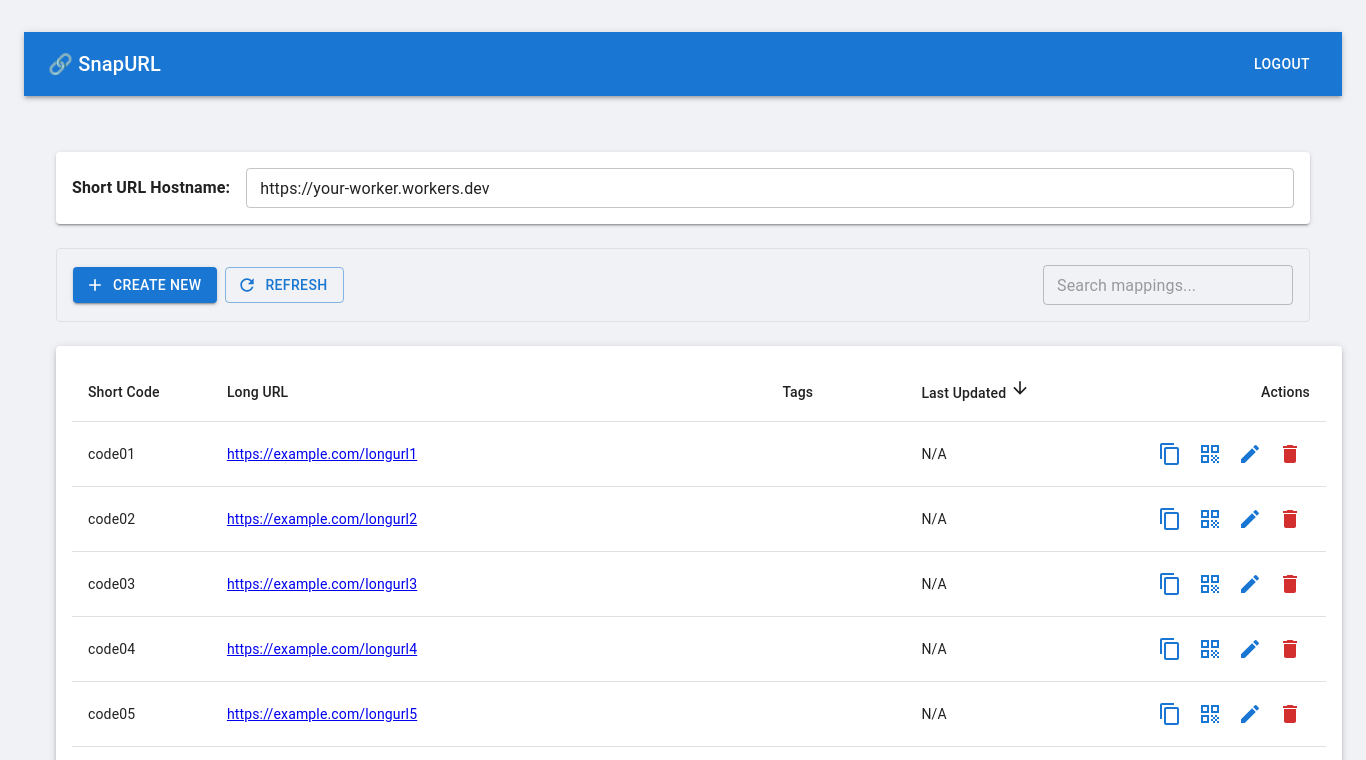
App Pagination › should reset to the first page when search term changes
Expected: the column heading "code01" is shown, x1=72 y1=422 x2=211 y2=486
# Search for something that would be on page 1
Type "code15" into the field with placeholder "Search mappings...".
click(1168, 285); type("code15")  # box x1=1043 y1=265 x2=1293 y2=305
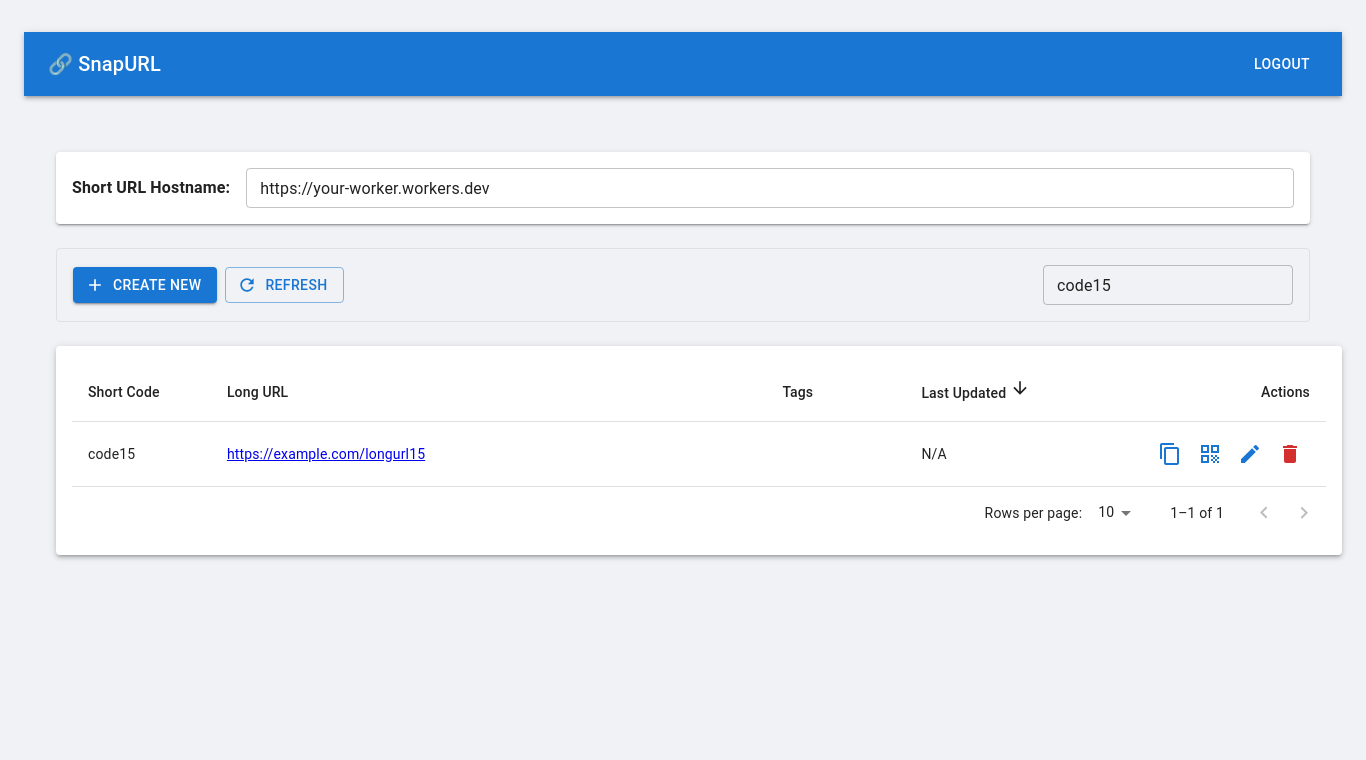
Now the number of rows is 2, box x1=72 y1=362 x2=1326 y2=422; x1=72 y1=422 x2=1326 y2=486
Now the column heading "code15" is shown, box x1=72 y1=422 x2=211 y2=486
Now the column heading "code01" is gone
